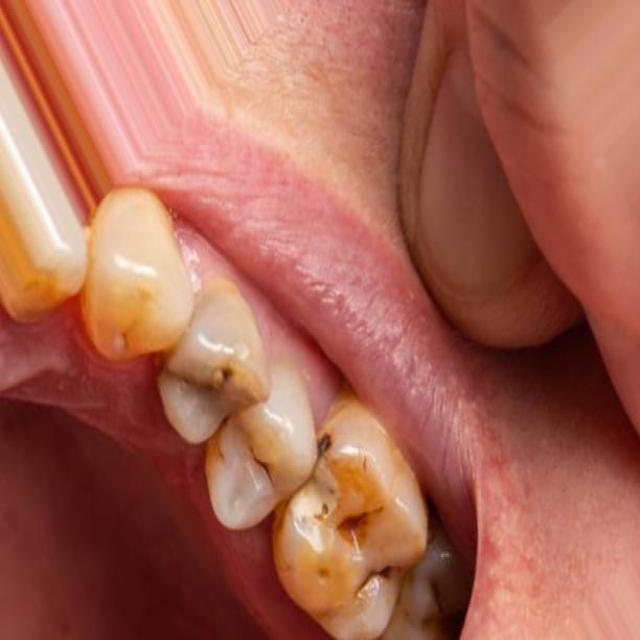caries: (188, 346, 245, 419), (336, 491, 386, 555), (346, 556, 398, 612), (240, 431, 278, 495), (310, 422, 345, 478), (308, 485, 336, 528)
